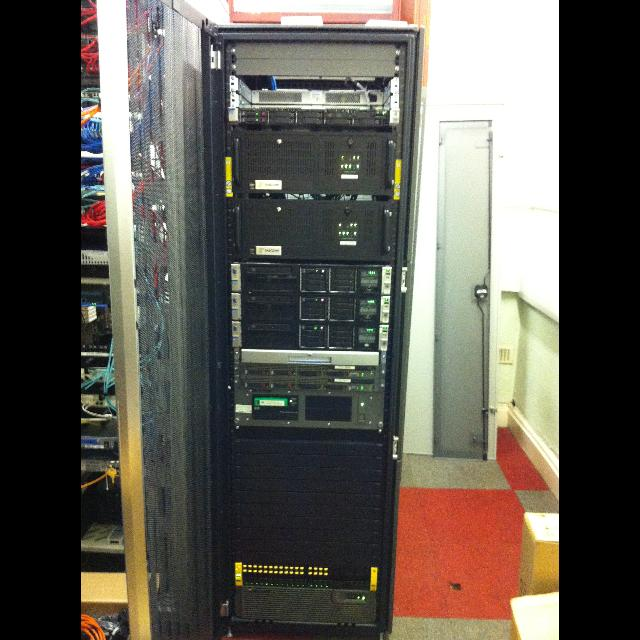Server: (184, 16, 426, 640)
